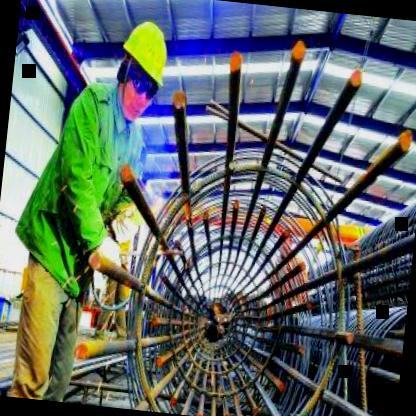helmet: (109, 12, 178, 126)
